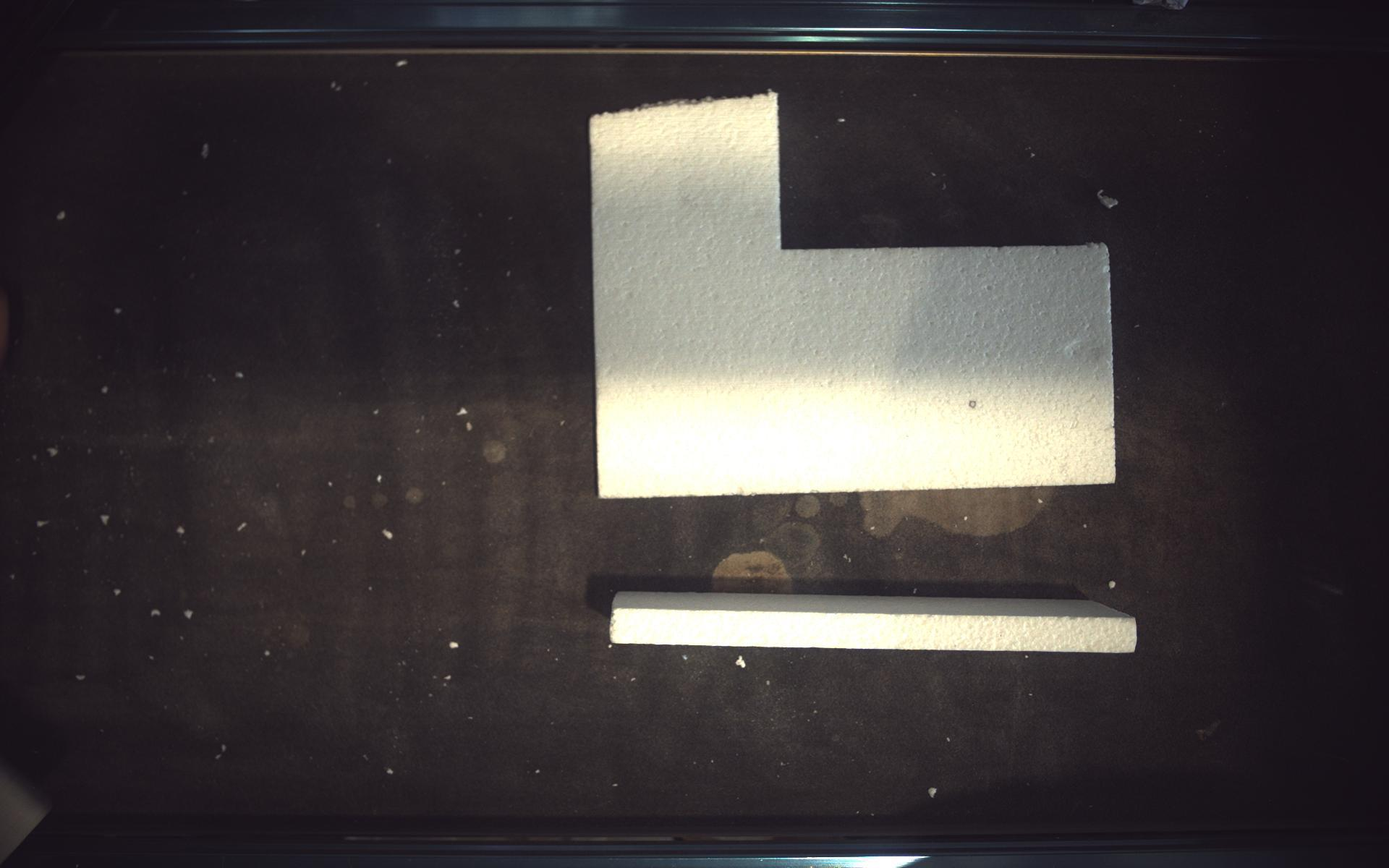foam: (590, 93, 1118, 498), (611, 592, 1138, 655)
